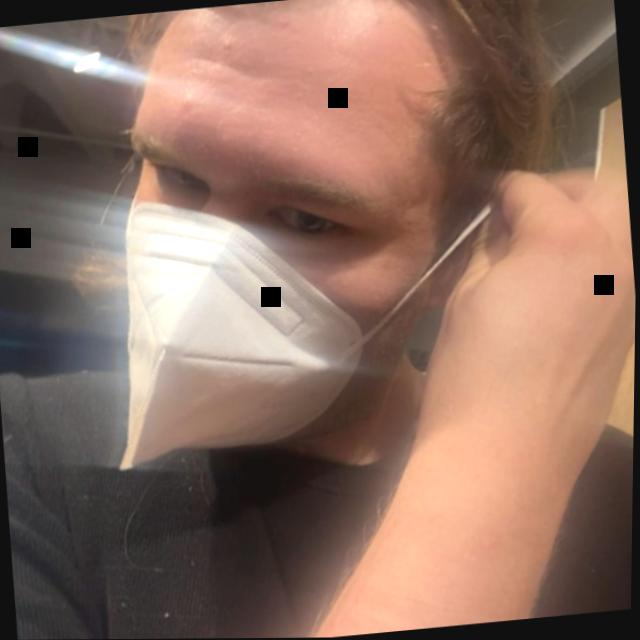Mask: (50, 0, 560, 446)
